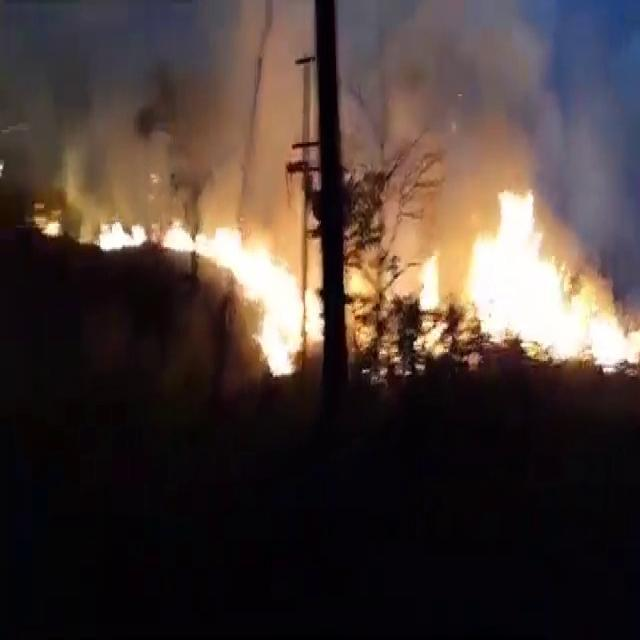Fire: (466, 187, 637, 361), (162, 214, 324, 374), (97, 211, 146, 249), (418, 246, 442, 310)
Smoke: (348, 12, 629, 286), (32, 12, 317, 260), (56, 47, 175, 186), (196, 147, 242, 210)
